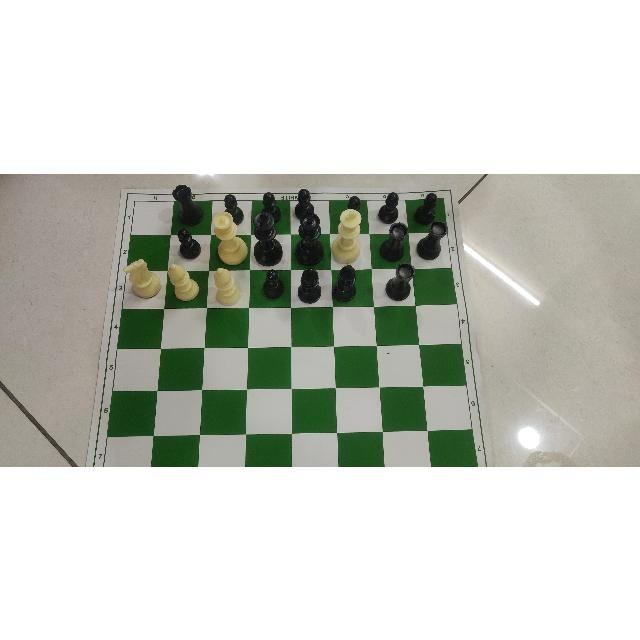black-bishop: (297, 266, 323, 303), (334, 263, 358, 301)
black-king: (252, 207, 283, 264)
black-pawn: (176, 227, 202, 258), (415, 191, 439, 223), (262, 268, 284, 300), (377, 190, 399, 221), (222, 193, 243, 220), (263, 191, 281, 219), (294, 187, 312, 214), (347, 196, 361, 208)
black-queen: (294, 212, 324, 262)
black-rook: (416, 220, 449, 260), (171, 184, 203, 224), (378, 222, 408, 262), (384, 261, 415, 299)
white-bishop: (166, 262, 199, 301), (213, 266, 241, 304)
white-king: (332, 208, 362, 262)
white-knight: (121, 258, 161, 298)
white-queen: (212, 211, 247, 263)
